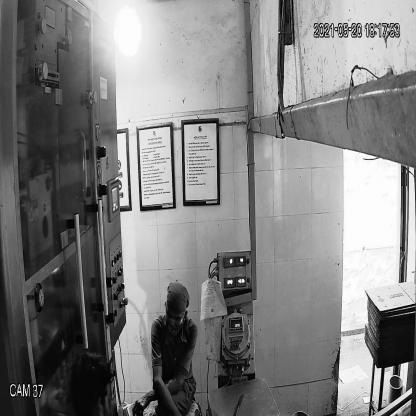goggles: (162, 303, 188, 331)
